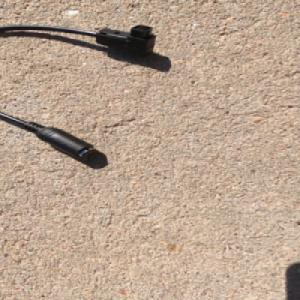Wire: (0, 23, 163, 159)
